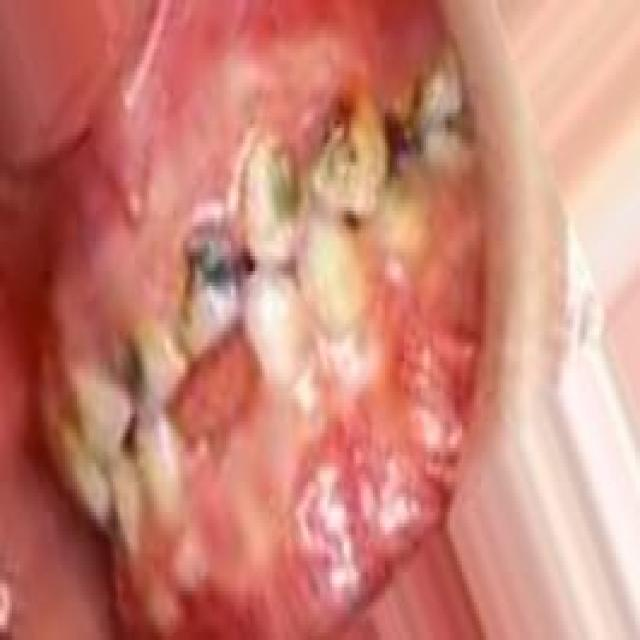caries: (304, 82, 392, 220), (235, 135, 315, 271), (170, 228, 242, 366), (112, 319, 186, 422), (386, 59, 441, 177)
